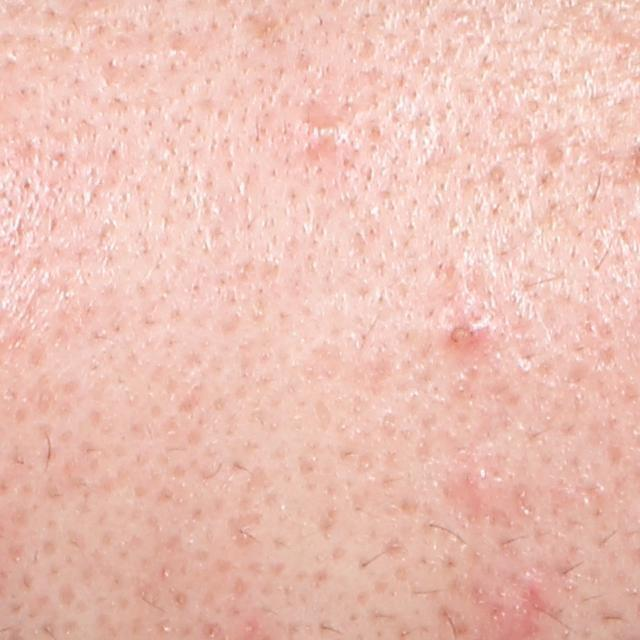atrophic_scar: (223, 511, 262, 549)
papule: (443, 313, 497, 359)
